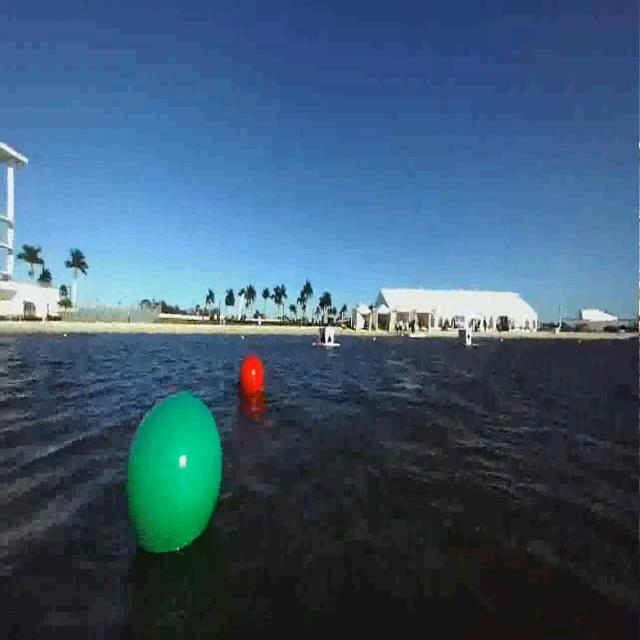green-buoy: (122, 388, 227, 560)
red-buoy: (240, 354, 266, 400)
